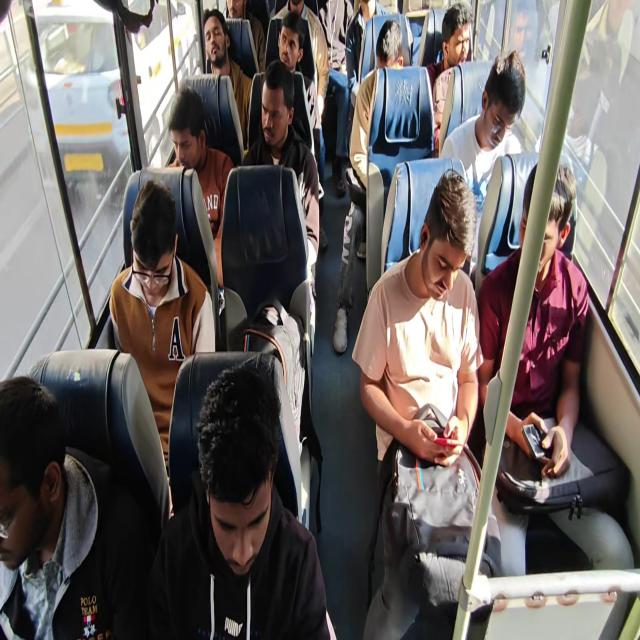person: (182, 347, 315, 635), (0, 381, 84, 640), (408, 164, 509, 324), (120, 191, 185, 321), (248, 43, 321, 158), (519, 161, 576, 295), (476, 49, 530, 153), (168, 96, 220, 190), (303, 0, 348, 91), (376, 26, 426, 100), (204, 15, 241, 75), (446, 7, 479, 67), (358, 0, 390, 43), (270, 20, 296, 56), (282, 1, 307, 23), (227, 0, 248, 26)
